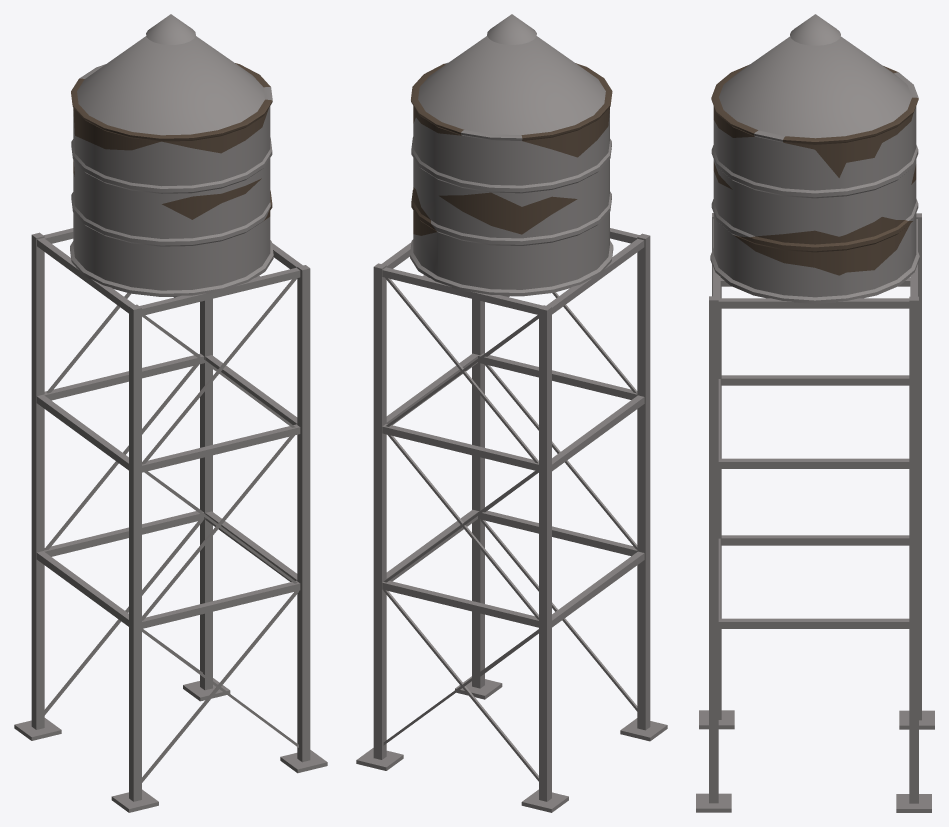
The model's file is prop_water_tower.glb.
The picture shows the model from 3 angles, left to right: view 1: azimuth 30°, elevation 25°; view 2: azimuth 150°, elevation 25°; view 3: azimuth 270°, elevation 25°; orthographic projection. The views are drawn at different scales.
Visible parts, largest first — view 1: WaterTower; view 2: WaterTower; view 3: WaterTower.
Part boxes in pixels (x1,y1,x2,y2): WaterTower: [14, 14, 327, 812]; WaterTower: [356, 14, 667, 812]; WaterTower: [696, 14, 934, 812].
Bounding box in the file's own units: 2.65 × 9.38 × 2.71.
Materials: 1 (1 with a texture image).
